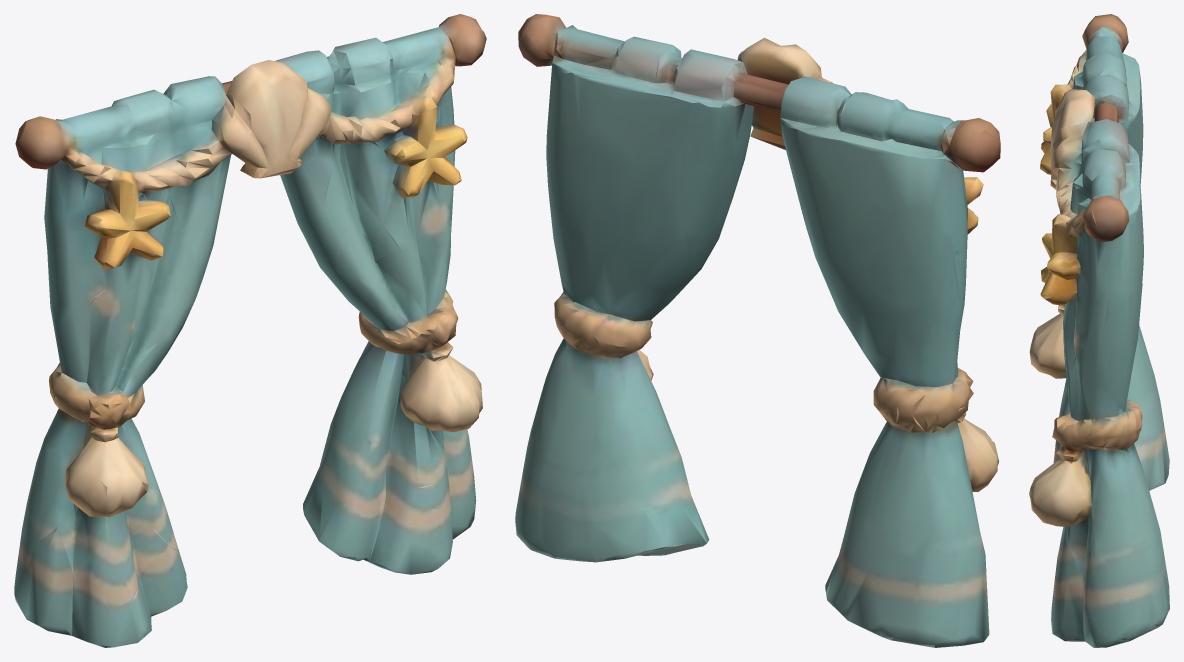
File: curtain24.glb
3 renders of one model, left to right at view 1: azimuth 30°, elevation 25°; view 2: azimuth 150°, elevation 25°; view 3: azimuth 270°, elevation 25°, orthographic. The views are drawn at different scales.
Size of the model in its own units: 0.2335 by 0.2576 by 0.0695.
1 material, 1 textured.
